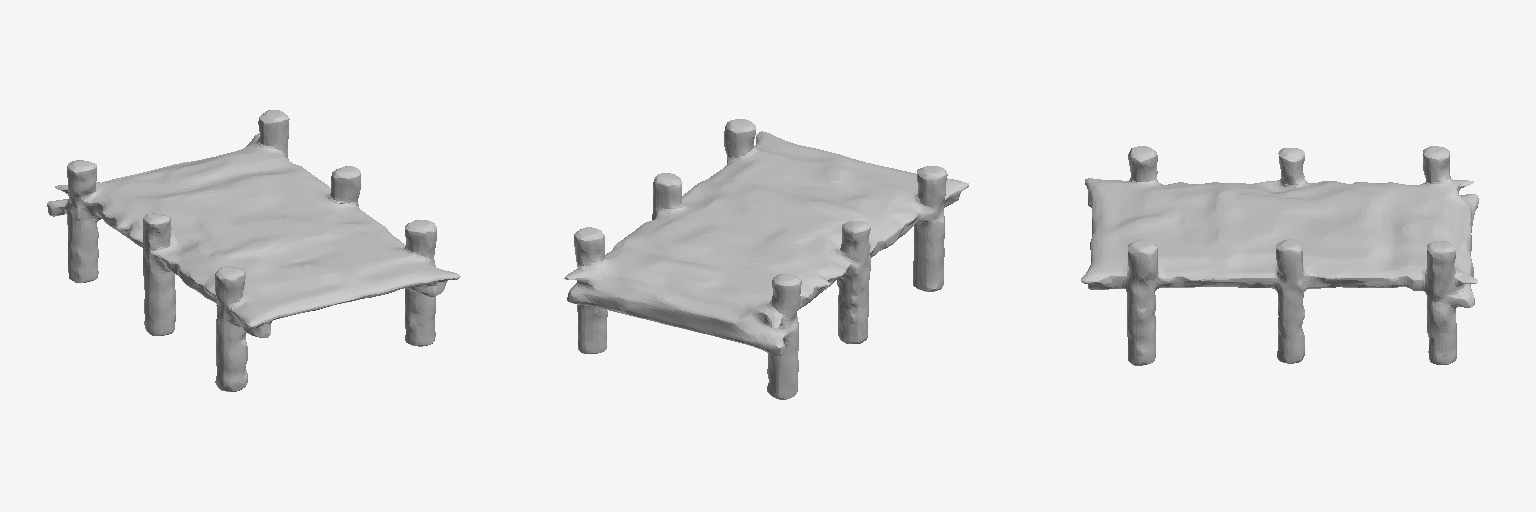
The model's file is passa2.obj.
3 renders of one model, left to right at view 1: azimuth 30°, elevation 25°; view 2: azimuth 150°, elevation 25°; view 3: azimuth 270°, elevation 25°, orthographic.
Parts seen in each view (by area): view 1: Mesh_0; view 2: Mesh_0; view 3: Mesh_0.
Boxes of the visible parts, x1=… form: Mesh_0: x1=47, y1=110, x2=460, y2=391; Mesh_0: x1=564, y1=119, x2=968, y2=399; Mesh_0: x1=1081, y1=146, x2=1478, y2=365.
Size of the model in its own units: 14.52 by 7.45 by 22.5.